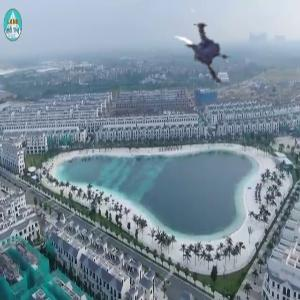drone: (160, 7, 246, 93)
